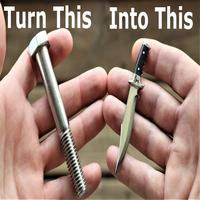knife: (113, 35, 153, 185)
